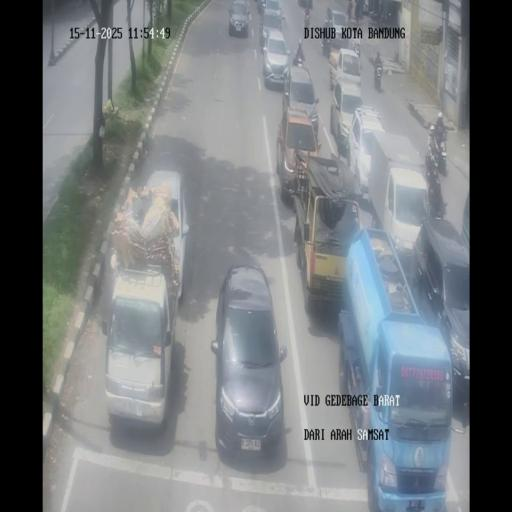3: (338, 230, 452, 506), (294, 155, 362, 314), (364, 133, 430, 257), (329, 46, 361, 96)
car: (211, 263, 286, 461), (102, 264, 176, 432), (142, 169, 194, 301), (282, 65, 318, 138), (260, 7, 284, 52), (325, 6, 349, 41), (228, 0, 250, 37), (256, 0, 266, 15)
truck: (434, 133, 448, 175), (425, 150, 438, 184), (434, 194, 447, 218), (373, 61, 383, 92), (350, 38, 361, 60), (370, 2, 380, 21), (293, 50, 304, 67), (303, 6, 311, 29), (318, 22, 326, 44), (354, 0, 361, 24), (362, 1, 369, 15), (280, 11, 286, 27), (304, 0, 312, 9)
